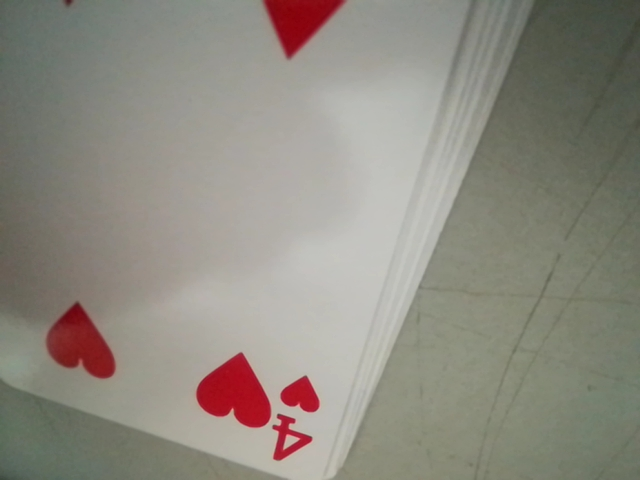hx 4: (271, 373, 323, 461)
